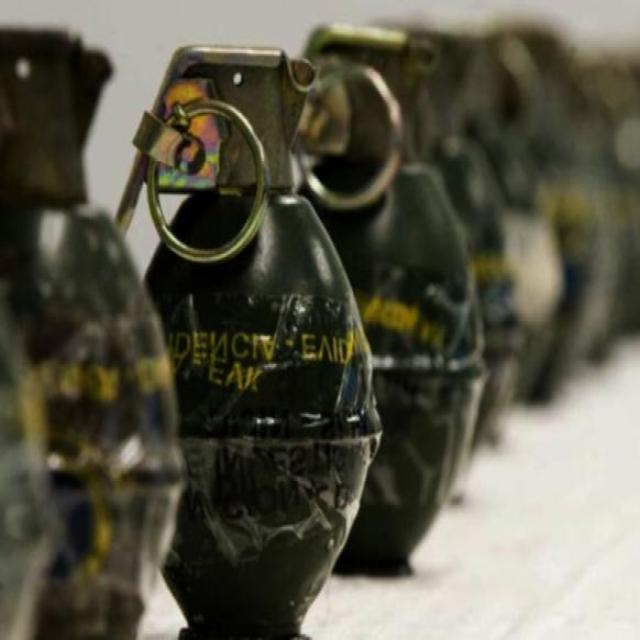grenade: (113, 48, 384, 640), (2, 26, 185, 639), (297, 25, 487, 577), (401, 31, 521, 452), (498, 23, 609, 409), (462, 33, 567, 409), (553, 58, 635, 365), (618, 50, 640, 345)
